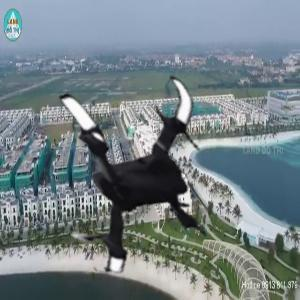drone: (21, 67, 250, 296)
